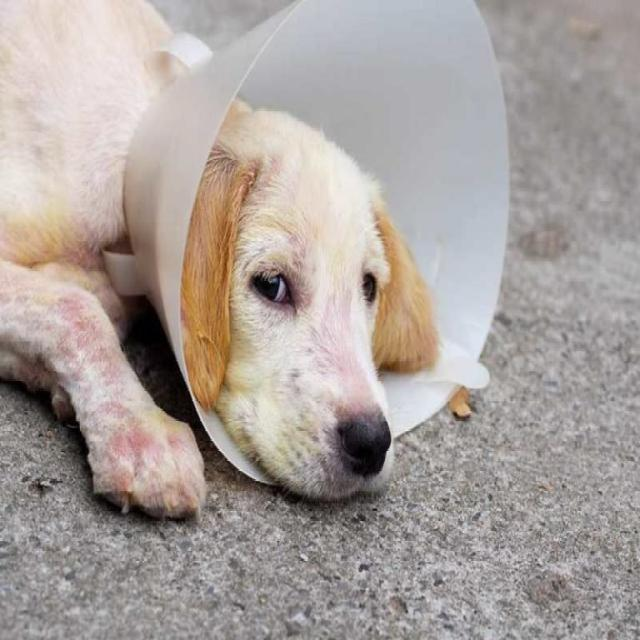mange: (81, 382, 156, 468), (48, 295, 98, 348)
